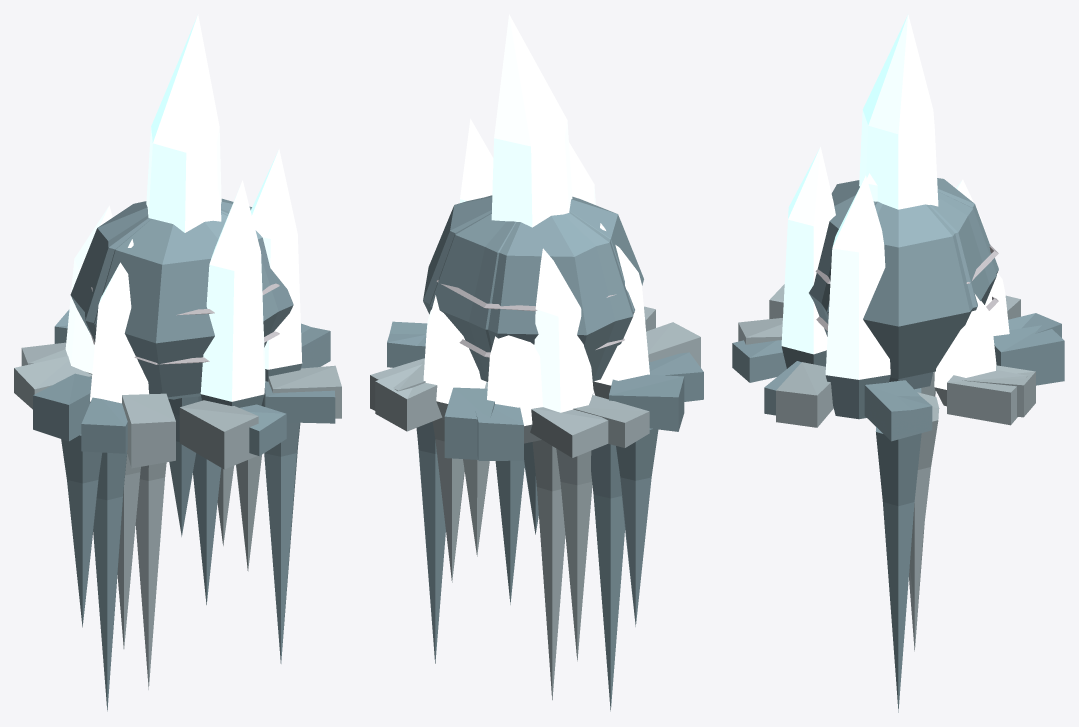
The model's file is frozen.glb.
3 views of the same model, side by side, from view 1: azimuth 30°, elevation 25°; view 2: azimuth 150°, elevation 25°; view 3: azimuth 270°, elevation 25° (orthographic). The views are drawn at different scales.
Visible parts, largest first — view 1: frozen_ice_crystal_b, frozen_frozen_spider_cocoon_b, frozen_ice_crystal_a, frozen_icicles_b, frozen_icicles_a, frozen_frozen_pool_rim_b, frozen_frozen_pool_rim_a, frozen_frozen_spider_cocoon_a; view 2: frozen_ice_crystal_b, frozen_frozen_spider_cocoon_b, frozen_icicles_a, frozen_icicles_b, frozen_frozen_pool_rim_b, frozen_ice_crystal_a, frozen_frozen_pool_rim_a, frozen_frozen_spider_cocoon_a; view 3: frozen_ice_crystal_b, frozen_frozen_spider_cocoon_a, frozen_frozen_pool_rim_b, frozen_ice_crystal_a, frozen_icicles_b, frozen_frozen_pool_rim_a, frozen_frozen_spider_cocoon_b, frozen_icicles_a.
Boxes of the visible parts, x1,y1,x2,y2 form: frozen_ice_crystal_b: (90, 14, 302, 415); frozen_frozen_spider_cocoon_b: (70, 201, 278, 399); frozen_ice_crystal_a: (65, 180, 265, 407); frozen_icicles_b: (61, 414, 300, 663); frozen_icicles_a: (93, 452, 261, 711); frozen_frozen_pool_rim_b: (21, 327, 341, 468); frozen_frozen_pool_rim_a: (14, 309, 335, 469); frozen_frozen_spider_cocoon_a: (85, 198, 293, 364); frozen_ice_crystal_b: (460, 14, 649, 443); frozen_frozen_spider_cocoon_b: (429, 196, 643, 381); frozen_icicles_a: (432, 386, 624, 711); frozen_icicles_b: (416, 382, 658, 663); frozen_frozen_pool_rim_b: (370, 321, 700, 459); frozen_ice_crystal_a: (423, 142, 595, 419); frozen_frozen_pool_rim_a: (375, 306, 703, 460); frozen_frozen_spider_cocoon_a: (423, 195, 633, 381); frozen_ice_crystal_b: (825, 14, 1009, 419); frozen_frozen_spider_cocoon_a: (815, 191, 998, 378); frozen_frozen_pool_rim_b: (732, 284, 1064, 435); frozen_ice_crystal_a: (781, 147, 996, 406); frozen_icicles_b: (875, 392, 939, 712); frozen_frozen_pool_rim_a: (738, 313, 1061, 441); frozen_frozen_spider_cocoon_b: (809, 178, 998, 336); frozen_icicles_a: (909, 371, 938, 651).
Size of the model in its own units: 0.8195 by 1.81 by 0.8195.
